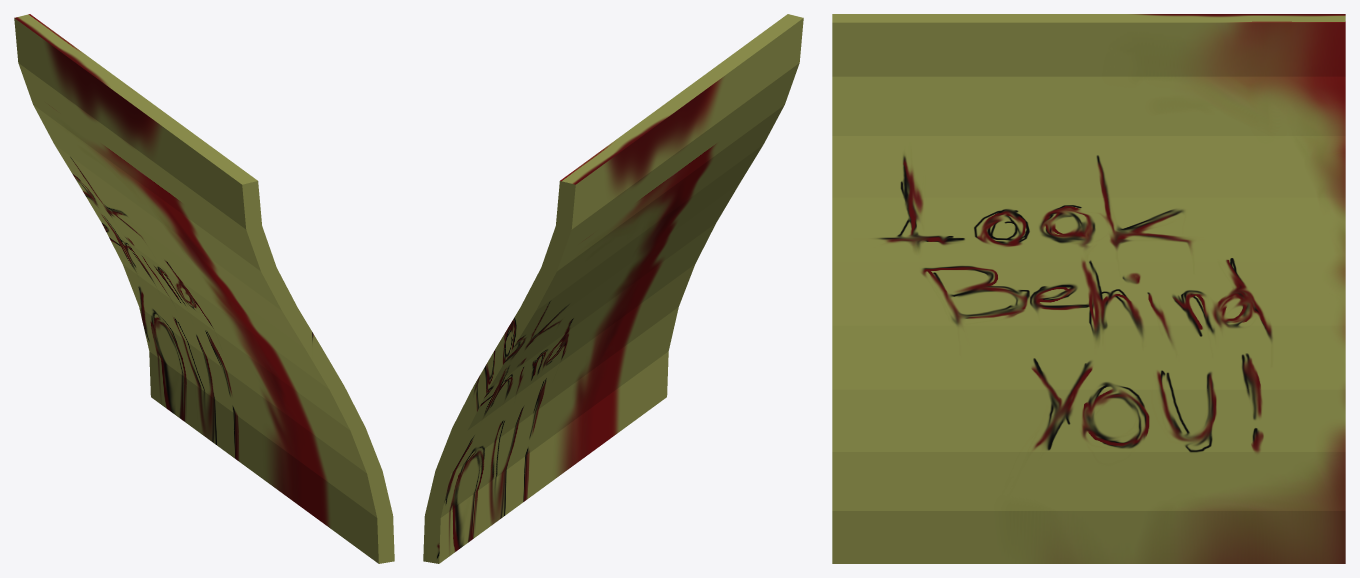
The model's file is sticky note.fbx.
The picture shows the model from 3 angles, left to right: view 1: azimuth 30°, elevation 25°; view 2: azimuth 150°, elevation 25°; view 3: azimuth 270°, elevation 25°; orthographic projection. The views are drawn at different scales.
Visible parts, largest first — view 1: Cube; view 2: Cube; view 3: Cube.
Part boxes in pixels (x1=…): Cube: x1=14, y1=14, x2=394, y2=563; Cube: x1=423, y1=14, x2=803, y2=563; Cube: x1=832, y1=14, x2=1345, y2=563.
Size of the model in its own units: 77.27 by 200 by 200.
Materials: 1 (1 with a texture image).
